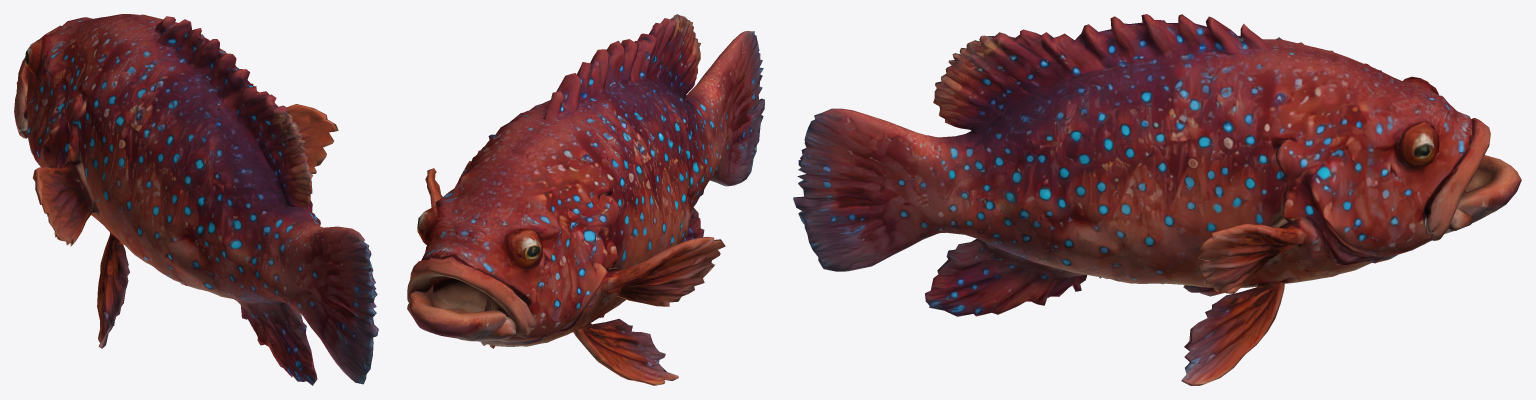
File: grouper.glb
The picture shows the model from 3 angles, left to right: view 1: azimuth 30°, elevation 25°; view 2: azimuth 150°, elevation 25°; view 3: azimuth 270°, elevation 25°; orthographic projection. The views are drawn at different scales.
Visible parts, largest first — view 1: tripo_node_0f78c957-4992-42be-b51f-0d5d3eca260c; view 2: tripo_node_0f78c957-4992-42be-b51f-0d5d3eca260c; view 3: tripo_node_0f78c957-4992-42be-b51f-0d5d3eca260c.
Boxes of the visible parts, x1,y1,x2,y2 form: tripo_node_0f78c957-4992-42be-b51f-0d5d3eca260c: (14,14,378,385); tripo_node_0f78c957-4992-42be-b51f-0d5d3eca260c: (407,14,764,385); tripo_node_0f78c957-4992-42be-b51f-0d5d3eca260c: (793,14,1521,385).
Bounding box in the file's own units: 0.5114 × 0.493 × 1.
1 material, 1 textured.
